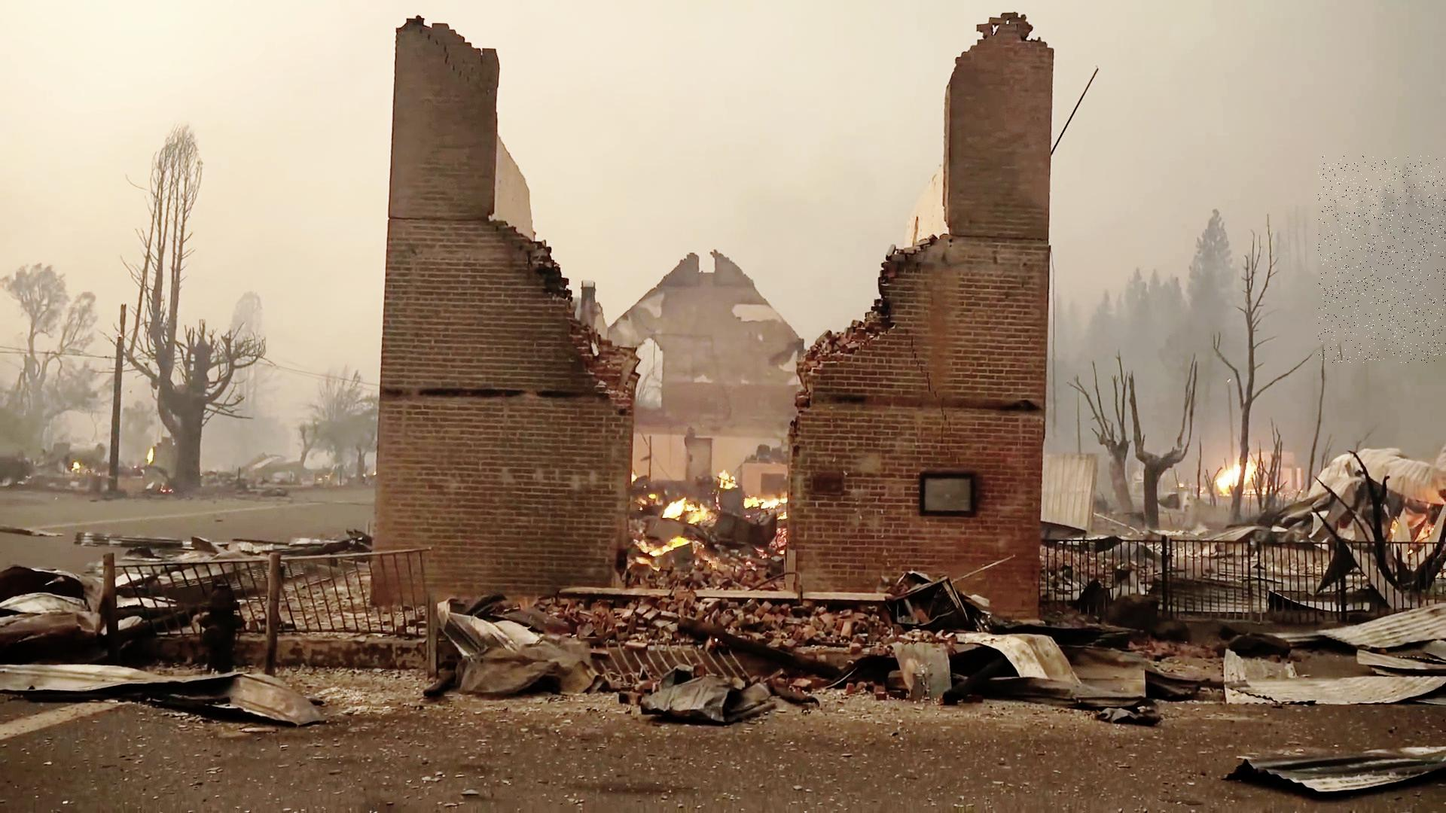smoke: (1318, 156, 1446, 363)
